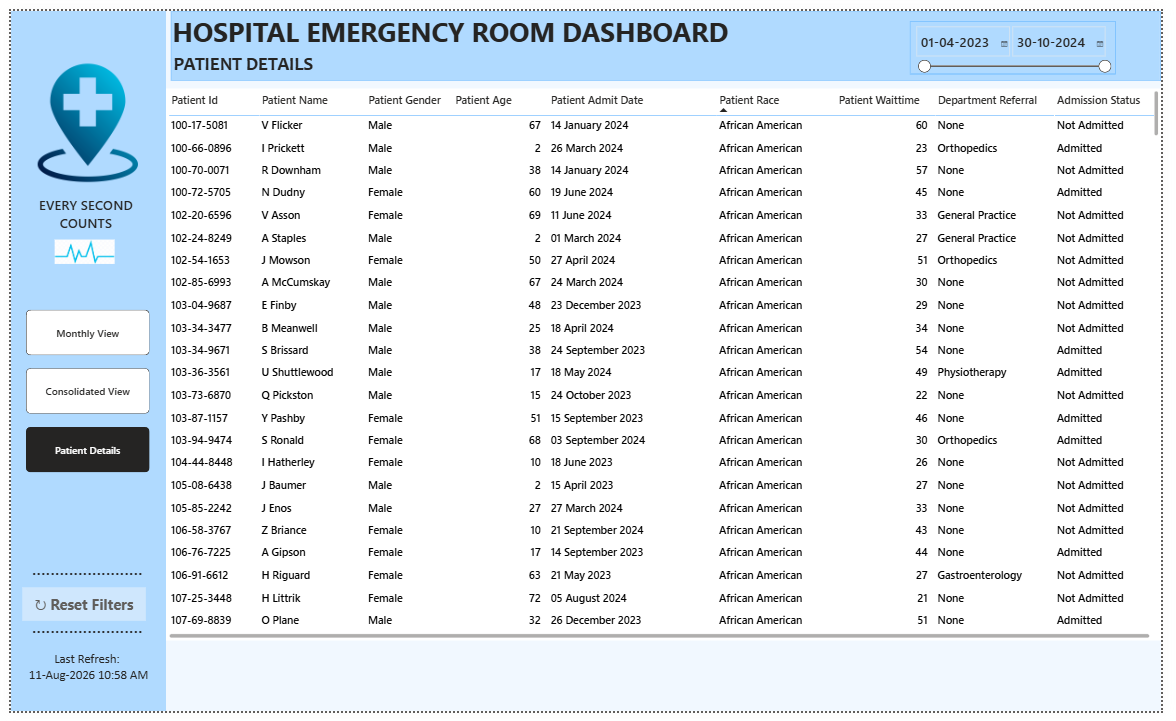

The page's visual inventory and layout, read from the dashboard file:
{"tool":"powerbi","page":{"name":"Patient Details","canvas":[2300,1400],"ordinal":2},"visuals":[{"type":"shape","box":[0,0,310,1400],"z":0},{"type":"shape","box":[320.5,0,1979,140],"z":1000},{"type":"textbox","box":[318.6,0,1133.2,87.5],"z":2000},{"type":"textbox","box":[320,78,410,62],"z":3000},{"type":"slicer","fields":{"Values":["Date Table.Date"]},"box":[1798,20,412,106],"z":4000},{"type":"tableEx","fields":{"Values":["Hospital ER_Data.Patient Id","Hospital ER_Data.Patient Full Name","Hospital ER_Data.Patient Gender","Sum(Hospital ER_Data.Patient Age)","Hospital ER_Data.patient Admit Date","Hospital ER_Data.Patient Race","Hospital ER_Data.Patient Waittime","Hospital ER_Data.Department Referral","Hospital ER_Data.Admission Status"]},"box":[310,156,1990,1104],"z":5000},{"type":"image","box":[30,0,247.5,447.5],"z":6000},{"type":"pageNavigator","box":[30,597.5,247.5,325],"z":7000},{"type":"card","fields":{"Values":["Measures Table.Last Refresh"]},"box":[22.5,1267.5,265,82.5],"z":8000},{"type":"textbox","box":[25,1192.5,255,75],"z":9000},{"type":"actionButton","box":[22.5,1152.5,247.5,67.5],"z":10000},{"type":"textbox","box":[25,1077.5,255,75],"z":11000},{"type":"textbox","box":[0,365,300,165],"z":12000},{"type":"image","box":[82.5,447.5,130,67.5],"z":13000}]}

Visuals, with their boxes in screenshot pixels (x1, y1, x2, y2), scaled from the page's 2300x1400 canvas onto the 1176x721 screenshot:
shape: <box>0,0,159,720</box>
shape: <box>164,0,1175,72</box>
textbox: <box>163,0,742,45</box>
textbox: <box>164,40,373,72</box>
slicer - Date Table.Date: <box>919,10,1130,65</box>
tableEx - Hospital ER_Data.Patient Id x Hospital ER_Data.Patient Full Name: <box>159,80,1175,649</box>
image: <box>15,0,142,230</box>
pageNavigator: <box>15,308,142,475</box>
card - Measures Table.Last Refresh: <box>12,653,147,695</box>
textbox: <box>13,614,143,653</box>
actionButton: <box>12,594,138,628</box>
textbox: <box>13,555,143,594</box>
textbox: <box>0,188,153,273</box>
image: <box>42,230,109,265</box>
